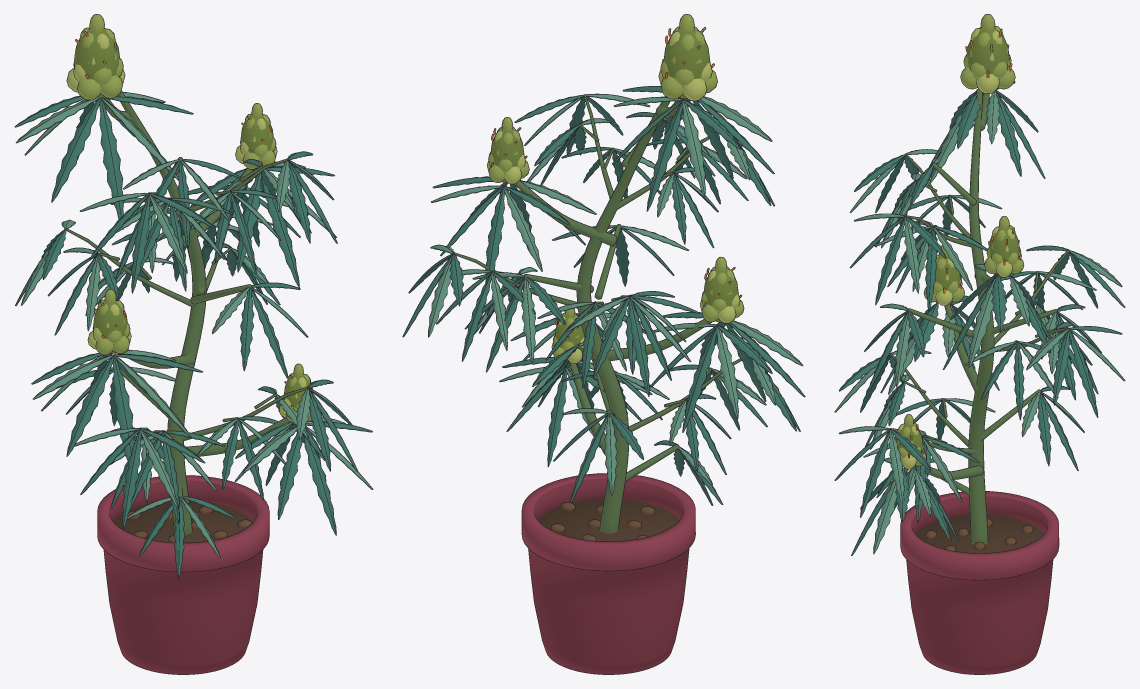
File: cannabis_sauvage_toon.glb
3 views of the same model, side by side, from view 1: azimuth 30°, elevation 25°; view 2: azimuth 150°, elevation 25°; view 3: azimuth 270°, elevation 25° (orthographic). The views are drawn at different scales.
Parts seen in each view (by area): view 1: cannabis_sauvage_Geometry; view 2: cannabis_sauvage_Geometry; view 3: cannabis_sauvage_Geometry.
Part boxes in pixels (x1,y1,x2,y2): cannabis_sauvage_Geometry: (14, 14, 373, 674); cannabis_sauvage_Geometry: (402, 14, 805, 674); cannabis_sauvage_Geometry: (834, 14, 1125, 674).
Bounding box in the file's own units: 0.6541 × 1.22 × 0.5349.
